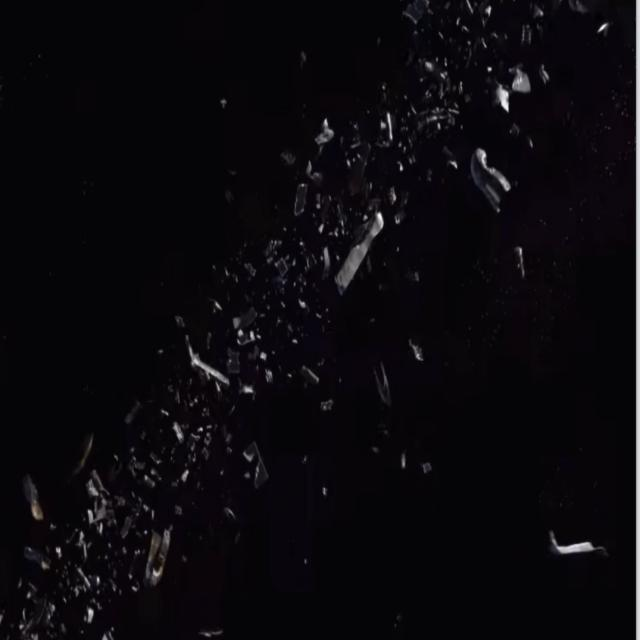large_debris: (545, 509, 620, 585), (337, 210, 394, 305), (82, 418, 124, 544), (469, 132, 518, 232), (179, 327, 235, 408), (142, 521, 184, 601), (494, 56, 538, 126), (20, 459, 50, 545), (168, 415, 216, 467), (239, 445, 276, 503), (406, 329, 432, 387), (231, 302, 262, 349), (379, 92, 397, 166), (375, 367, 396, 429), (308, 114, 338, 156), (513, 243, 533, 285), (302, 351, 323, 390), (405, 3, 431, 32), (80, 602, 96, 636)
